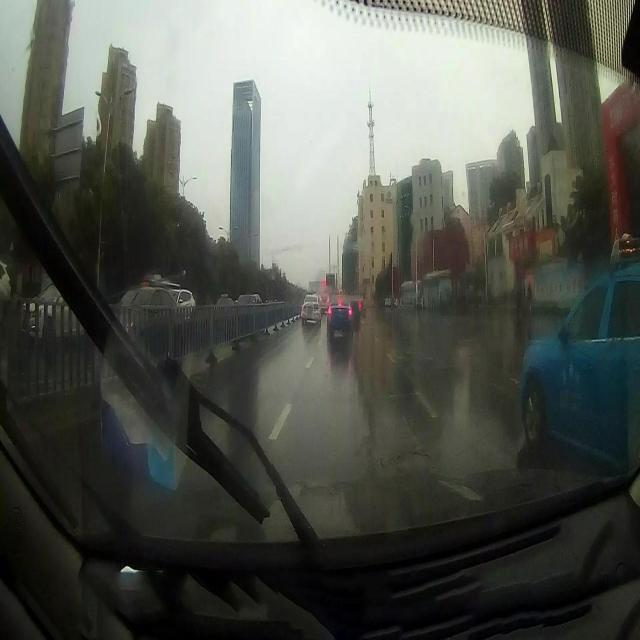car: (519, 264, 640, 466), (326, 298, 352, 336), (300, 292, 320, 323)
